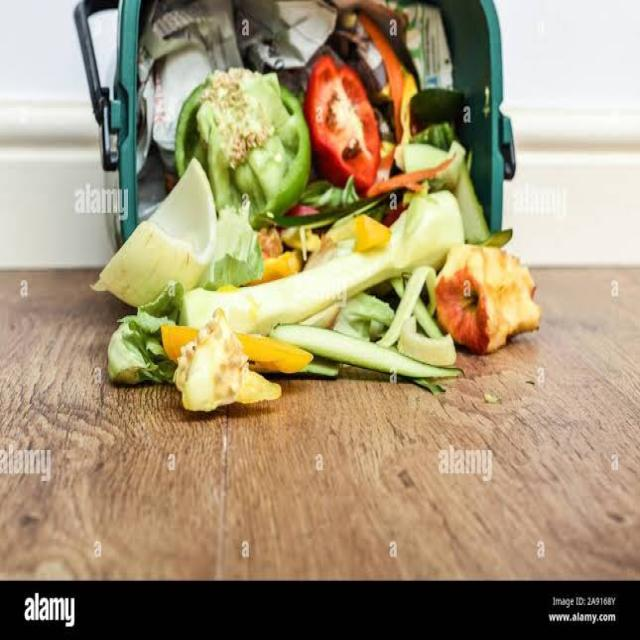organic: (174, 74, 312, 229), (90, 159, 216, 311), (434, 243, 542, 357), (302, 53, 382, 200), (270, 321, 464, 381), (105, 280, 195, 385), (160, 318, 315, 378)
